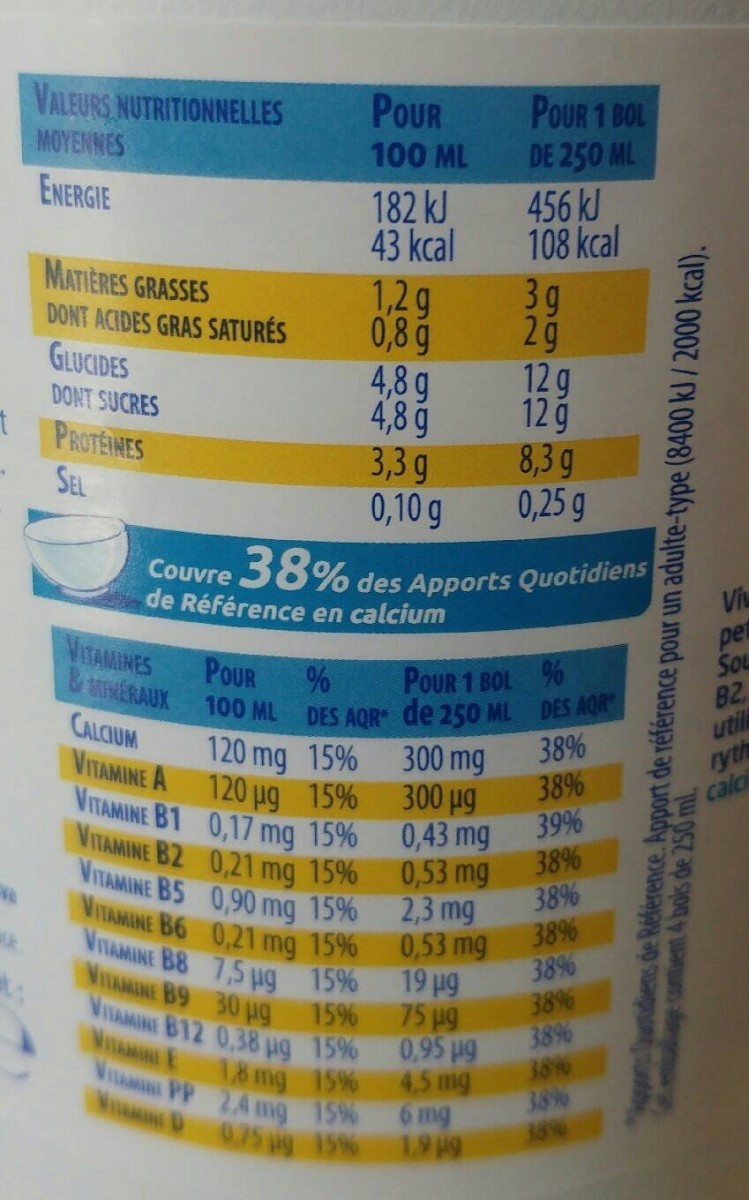column: (33, 78, 292, 506), (66, 636, 197, 1141), (519, 89, 647, 525), (402, 662, 511, 1163), (526, 657, 619, 1158), (206, 658, 296, 1161), (368, 85, 470, 528), (304, 660, 388, 1160)
table: (50, 624, 631, 1161), (17, 68, 660, 527)
